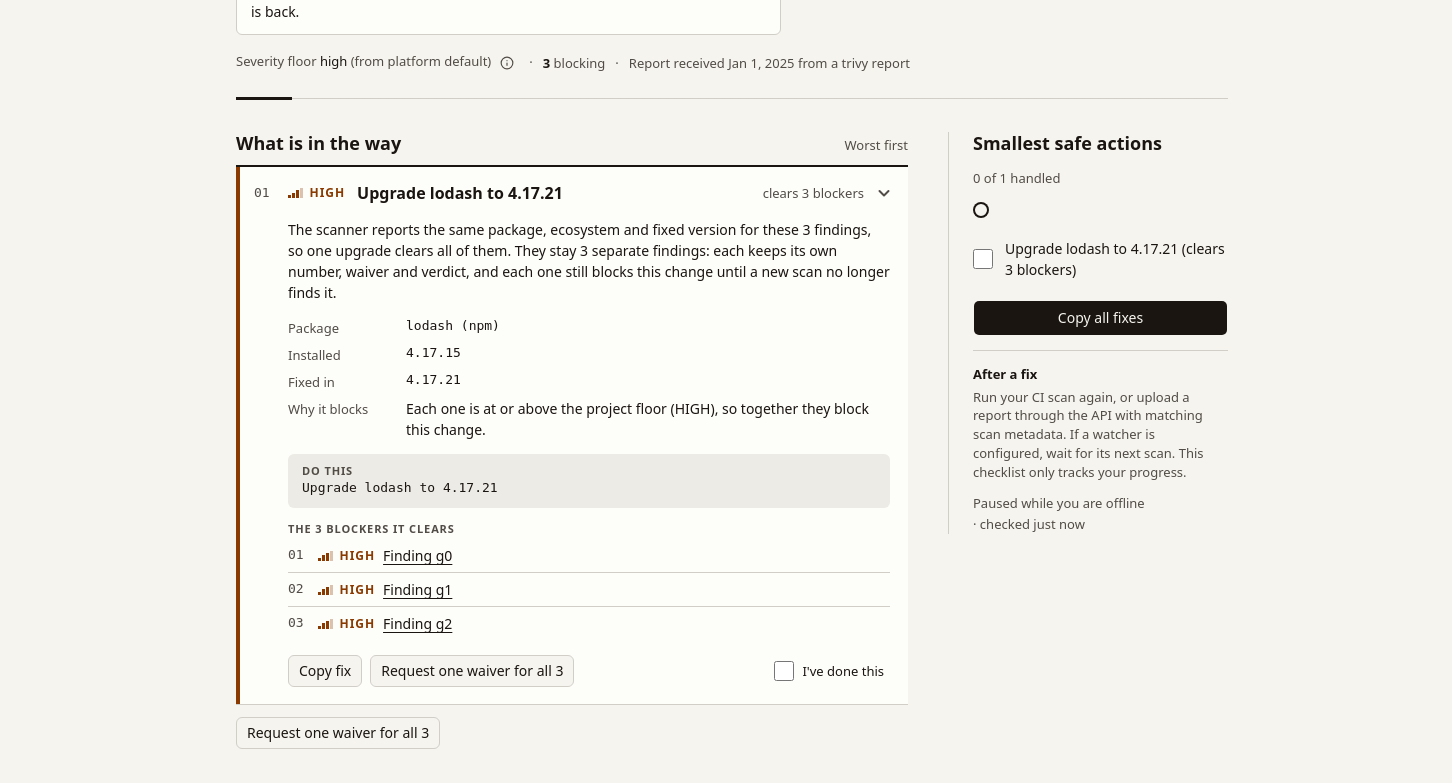
Test: ChangeView grouping by fix › counts a group once in the checklist and marks every member done together
The image size is (1452, 783).
(page scrolled)
Expected: the text "0 of 1 handled" is shown, top-left (973, 169), bottom-right (1060, 187)
Click the checkbox labelled "I've done this".
click(784, 671)  # box top-left (774, 661), bottom-right (794, 681)
(page scrolled)
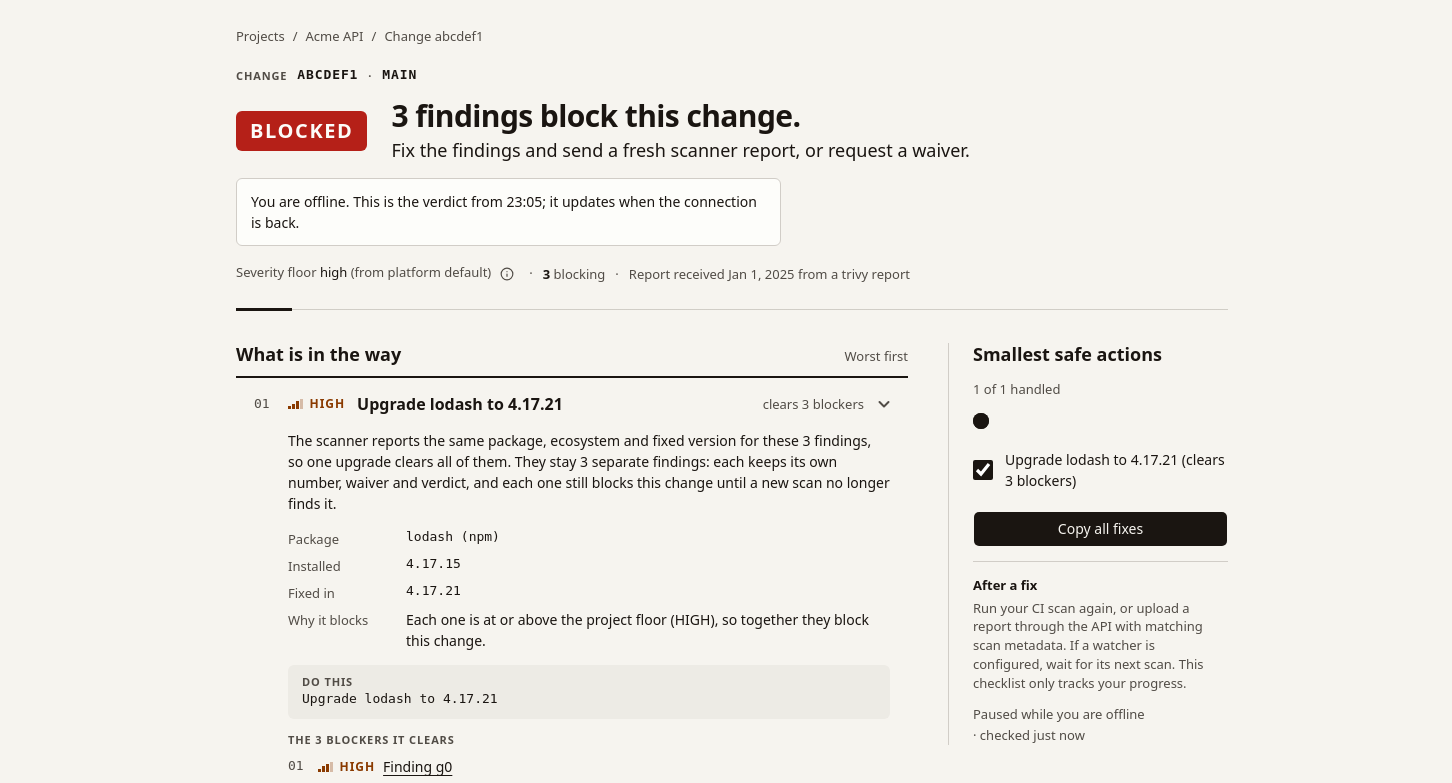
Expected: the text "BLOCKED" is shown, top-left (236, 111), bottom-right (368, 151)
Expected: the text "1 of 1 handled" is shown, top-left (973, 380), bottom-right (1060, 398)
